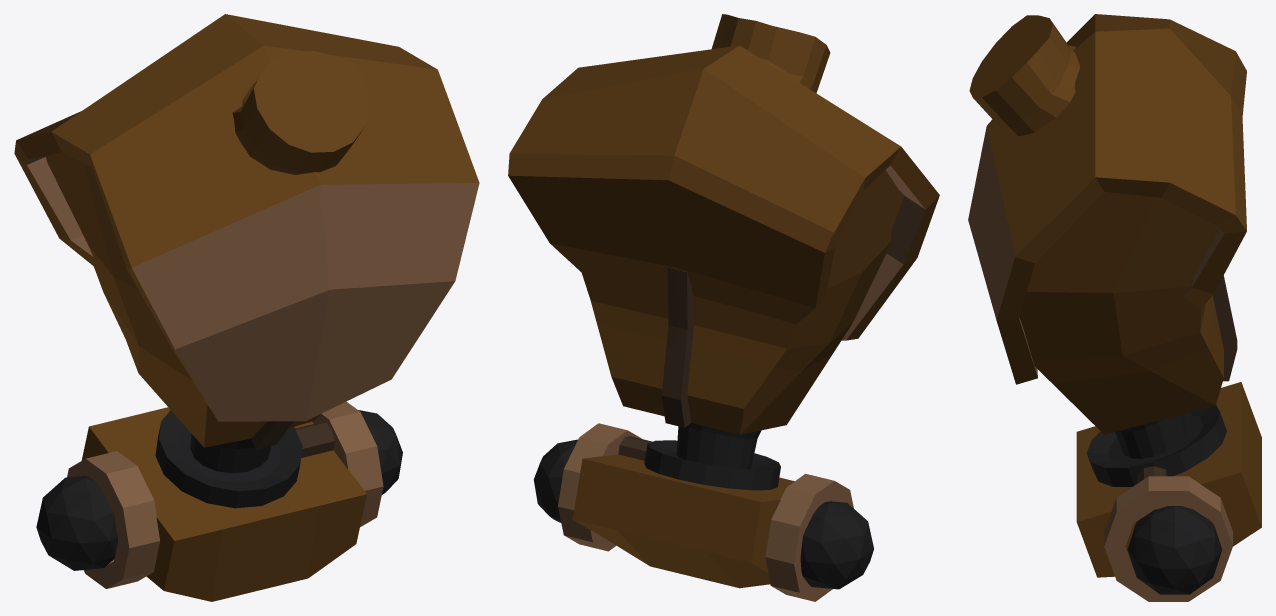
The model's file is torso.fbx.
3 renders of one model, left to right at view 1: azimuth 30°, elevation 25°; view 2: azimuth 150°, elevation 25°; view 3: azimuth 270°, elevation 25°, orthographic. The views are drawn at different scales.
Parts seen in each view (by area): view 1: torso; view 2: torso; view 3: torso.
Part boxes in pixels (box(x1,y1,x2,y2)): torso: box(14, 14, 479, 601); torso: box(508, 14, 939, 601); torso: box(968, 14, 1261, 601).
Bounding box in the file's own units: 263 × 393 × 197.
